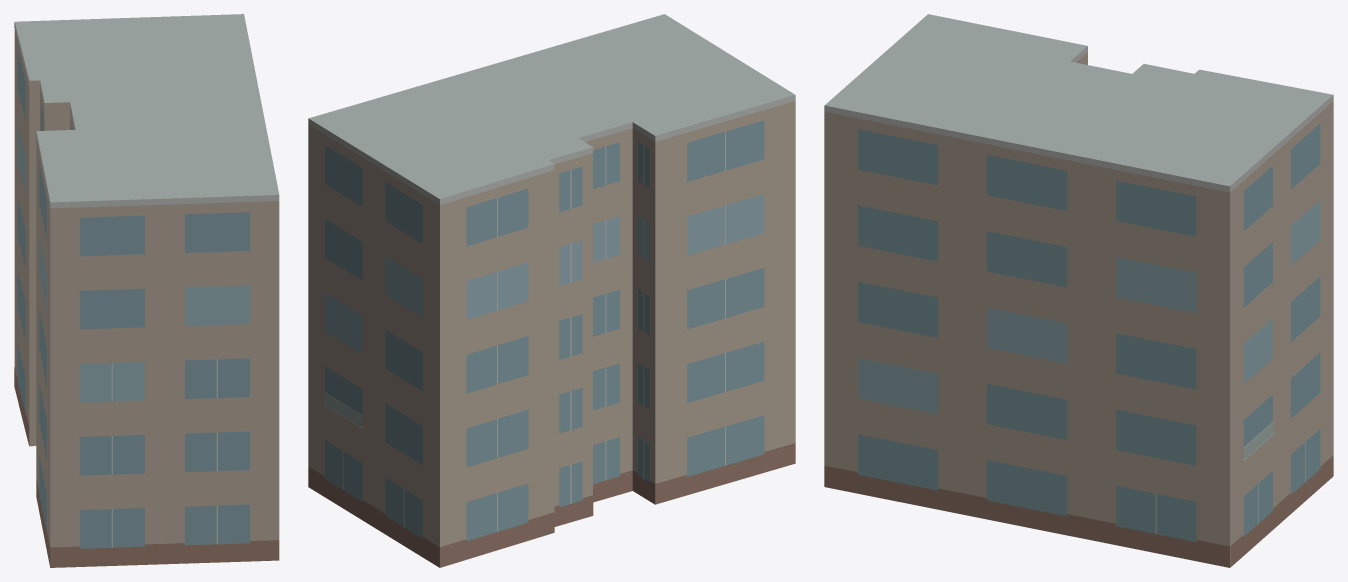
The model's file is survey-upis-32666455.glb.
The picture shows the model from 3 angles, left to right: view 1: azimuth 30°, elevation 25°; view 2: azimuth 150°, elevation 25°; view 3: azimuth 270°, elevation 25°; orthographic projection. The views are drawn at different scales.
Visible parts, largest first — view 1: survey-upis-32666455.tmp; view 2: survey-upis-32666455.tmp; view 3: survey-upis-32666455.tmp.
Part boxes in pixels (x1,y1,x2,y2): survey-upis-32666455.tmp: (14,14,279,567); survey-upis-32666455.tmp: (308,14,795,567); survey-upis-32666455.tmp: (824,14,1333,567).
Size of the model in its own units: 14.45 by 14.9 by 18.03.
